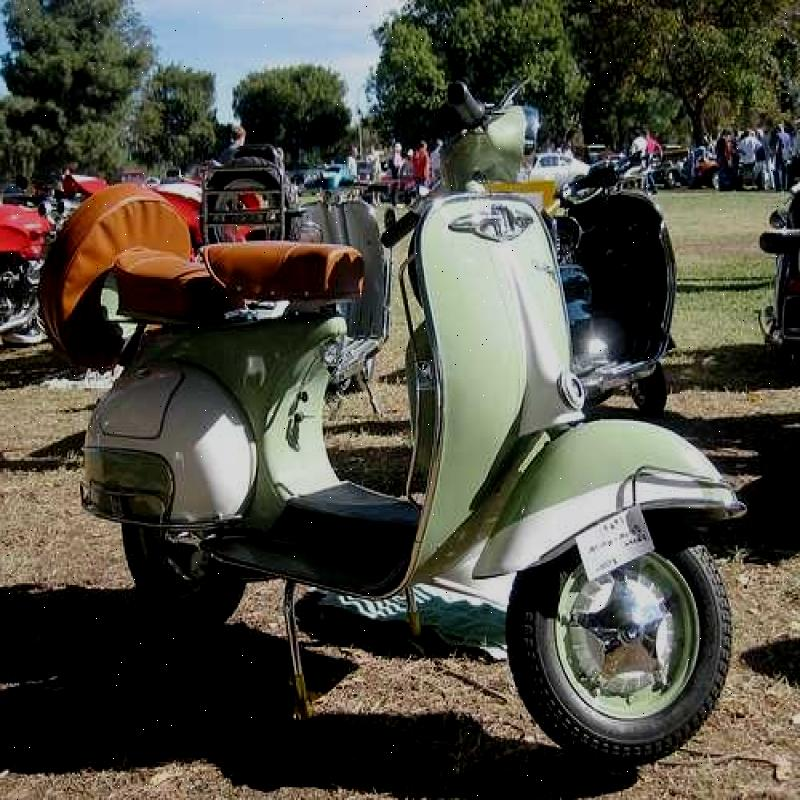bike: (65, 90, 731, 766)
